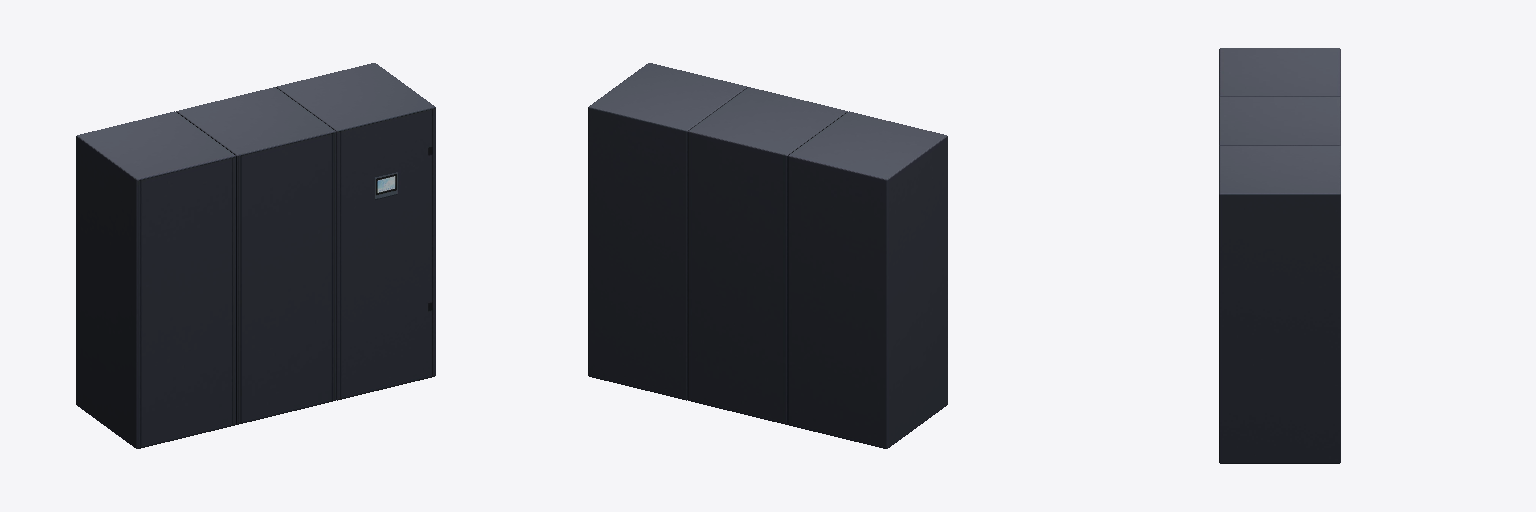
3 renders of one model, left to right at view 1: azimuth 30°, elevation 25°; view 2: azimuth 150°, elevation 25°; view 3: azimuth 270°, elevation 25°, orthographic.
Visible parts, largest first — view 1: ChamferBox54, ChamferBox55; view 2: ChamferBox54, ChamferBox55; view 3: ChamferBox55, ChamferBox54.
Boxes of the visible parts, x1=… form: ChamferBox54: x1=76, y1=87, x2=335, y2=448; ChamferBox55: x1=276, y1=63, x2=435, y2=400; ChamferBox54: x1=688, y1=87, x2=947, y2=448; ChamferBox55: x1=588, y1=63, x2=747, y2=400; ChamferBox55: x1=1219, y1=146, x2=1340, y2=463; ChamferBox54: x1=1219, y1=48, x2=1340, y2=145.
Bounding box in the file's own units: 255 × 220 × 90.
2 materials, 2 textured.